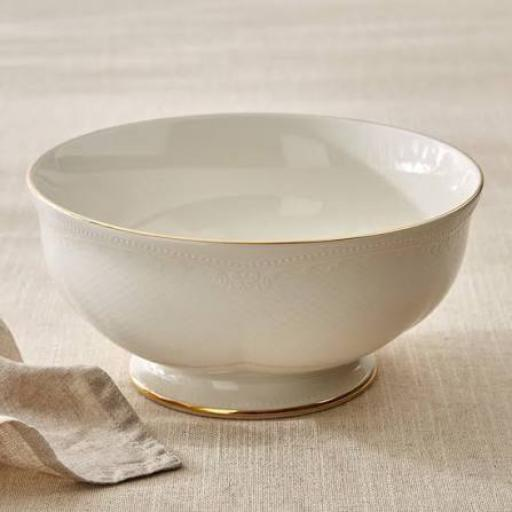Bowl: (27, 113, 482, 418)
